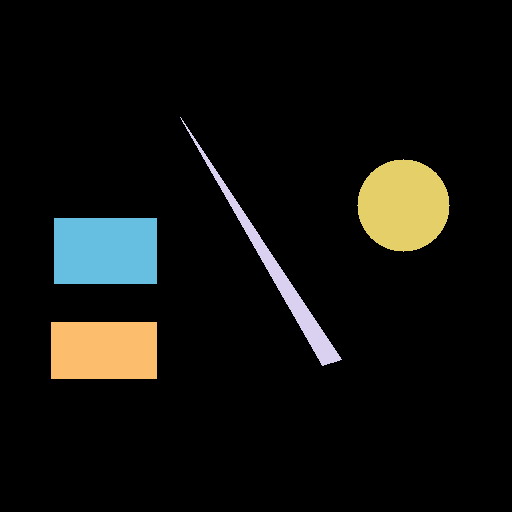circle: (357, 159, 449, 251)
rectangle: (54, 218, 156, 283), (51, 322, 156, 378)
triangle: (180, 117, 341, 364)
